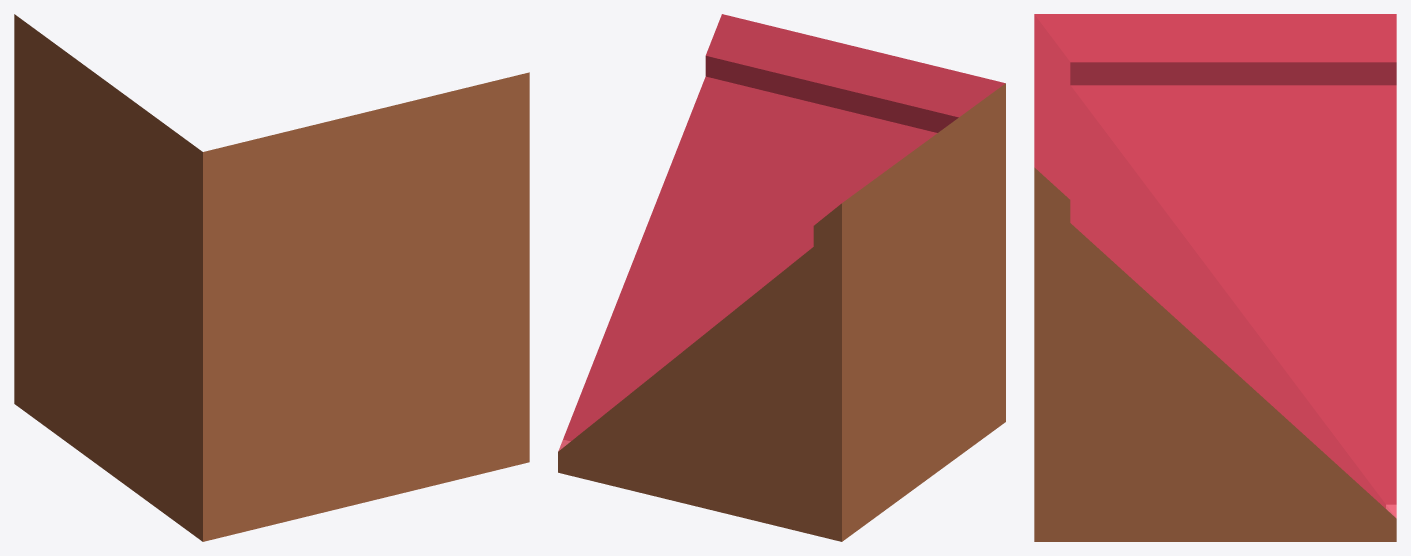
Rendered from roofHighCornerInner.glb.
3 renders of one model, left to right at view 1: azimuth 30°, elevation 25°; view 2: azimuth 150°, elevation 25°; view 3: azimuth 270°, elevation 25°, orthographic. The views are drawn at different scales.
Visible parts, largest first — view 1: roofHighCornerInner; view 2: roofHighCornerInner; view 3: roofHighCornerInner.
Part boxes in pixels (box(x1,y1,x2,y2)): roofHighCornerInner: box(14, 14, 529, 541); roofHighCornerInner: box(558, 14, 1005, 541); roofHighCornerInner: box(1034, 14, 1396, 541).
Bounding box in the file's own units: 3 × 3.42 × 3.
